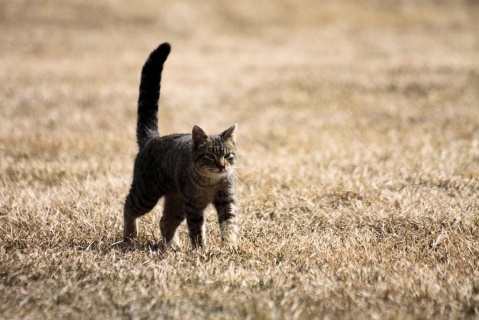Cat: (120, 39, 239, 253)
